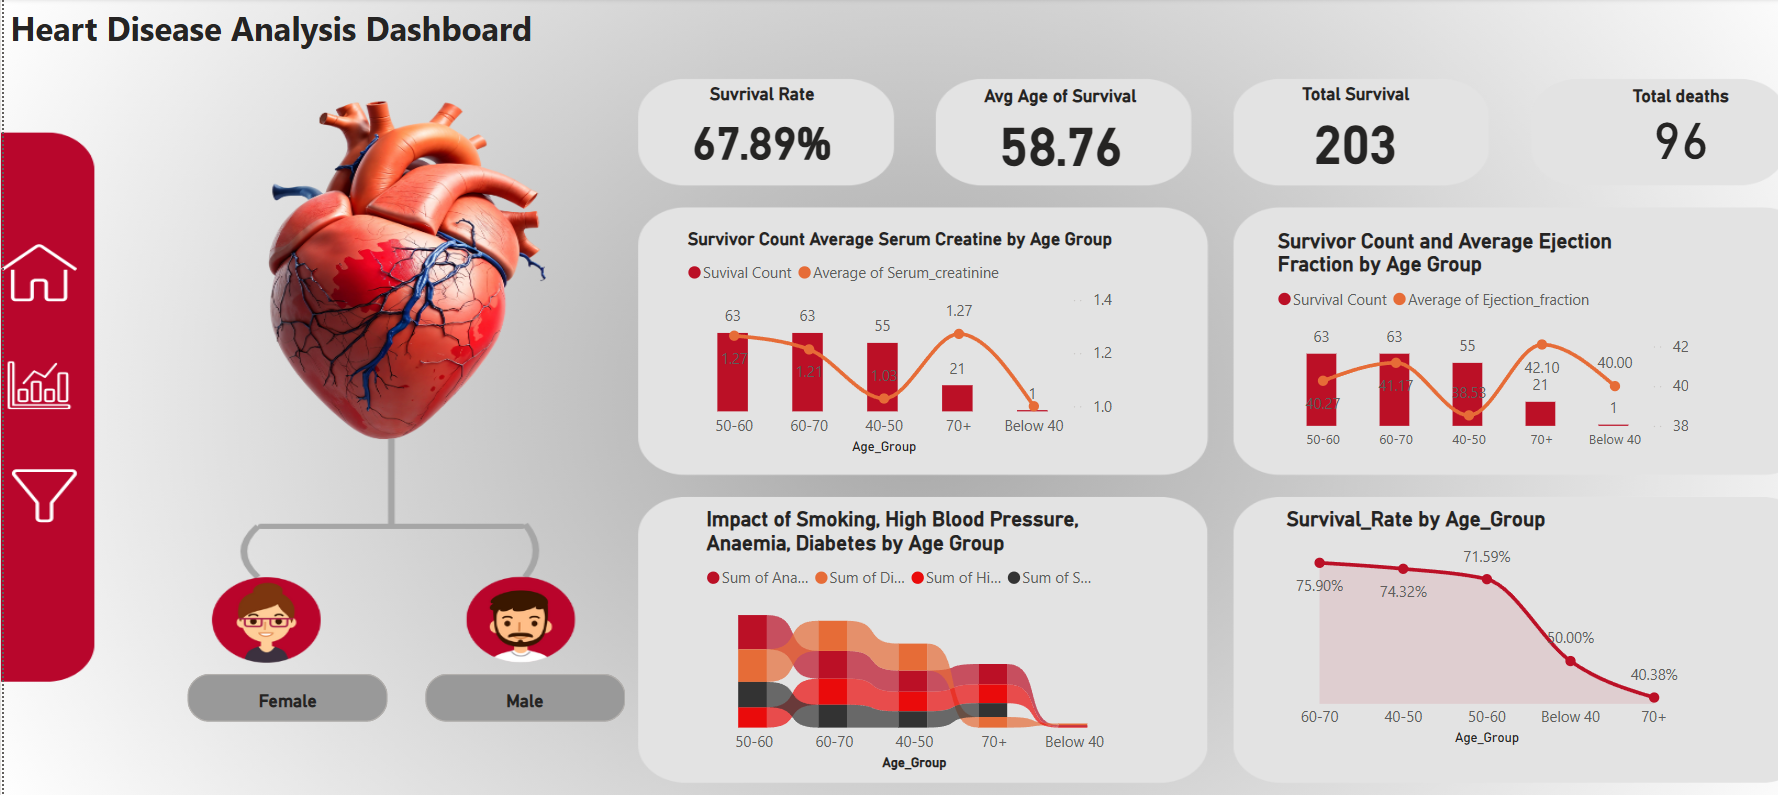

The dashboard page shown, as its layout file describes it:
{"tool":"powerbi","page":{"name":"Page 1","canvas":[1450,650],"ordinal":0},"visuals":[{"type":"textbox","box":[0,1,525,49],"z":0},{"type":"card","title":"Suvrival Rate","fields":{"Values":["heart_Disease_clinical_records_.Survival_Rate"]},"box":[550.5,69.2,133.3,79.4],"z":1000},{"type":"card","title":"Avg Age of Survival","fields":{"Values":["heart_Disease_clinical_records_.Average_Age_Survival"]},"box":[791.6,71.2,136.4,79.4],"z":2000},{"type":"card","title":"Total Survival","fields":{"Values":["heart_Disease_clinical_records_.Total_Survivor"]},"box":[1031.8,69.2,137.4,80.4],"z":3000},{"type":"card","title":"Total deaths","fields":{"Values":["heart_Disease_clinical_records_.Total_Death"]},"box":[1300.4,71.2,129.2,69.2],"z":4000},{"type":"lineClusteredColumnComboChart","title":"Survivor Count Average Serum Creatine by Age Group","fields":{"Category":["heart_Disease_clinical_records_.Age_Group"],"Y":["CountNonNull(heart_Disease_clinical_records_.DEATH_EVENT)"],"Y2":["Avg(heart_Disease_clinical_records_.Serum_creatinine)"]},"box":[551.5,187.2,356.1,189.3],"z":5000},{"type":"lineClusteredColumnComboChart","title":"Survivor Count and Average Ejection Fraction by Age Group","fields":{"Category":["heart_Disease_clinical_records_.Age_Group"],"Y2":["Avg(heart_Disease_clinical_records_.Ejection_fraction)"],"Y":["CountNonNull(heart_Disease_clinical_records_.DEATH_EVENT)"]},"box":[1031.8,187.2,343.9,189.3],"z":6000},{"type":"lineChart","fields":{"Category":["heart_Disease_clinical_records_.Age_Group"],"Y":["heart_Disease_clinical_records_.Survival_Rate"]},"box":[1038.9,414.1,336.8,199.4],"z":7000},{"type":"ribbonChart","title":"Impact of Smoking, High Blood Pressure, Anaemia, Diabetes by Age Group","fields":{"Category":["heart_Disease_clinical_records_.Age_Group"],"Y":["Sum(heart_Disease_clinical_records_.Anaemia)","Sum(heart_Disease_clinical_records_.Diabetes)","Sum(heart_Disease_clinical_records_.High_blood_pressure)","Sum(heart_Disease_clinical_records_.Smoking)"]},"box":[566.8,414.1,349,219.8],"z":7001},{"type":"advancedSlicerVisual","fields":{"Values":["heart_Disease_clinical_records_.Gender"]},"box":[144.5,545.4,366.3,49.9],"z":7002}]}

Visuals, with their boxes in screenshot pixels (x1, y1, x2, y2), scaled from the page's 1450x650 canvas onto the 1778x795 screenshot:
textbox: (left=0, top=1, right=644, bottom=61)
"Suvrival Rate" card: (left=675, top=85, right=838, bottom=182)
"Avg Age of Survival" card: (left=971, top=87, right=1138, bottom=184)
"Total Survival" card: (left=1265, top=85, right=1434, bottom=183)
"Total deaths" card: (left=1595, top=87, right=1753, bottom=172)
"Survivor Count Average Serum Creatine by Age Group" lineClusteredColumnComboChart: (left=676, top=229, right=1113, bottom=460)
"Survivor Count and Average Ejection Fraction by Age Group" lineClusteredColumnComboChart: (left=1265, top=229, right=1687, bottom=460)
lineChart - heart_Disease_clinical_records_.Age_Group x heart_Disease_clinical_records_.Survival_Rate: (left=1274, top=506, right=1687, bottom=750)
"Impact of Smoking, High Blood Pressure, Anaemia, Diabetes by Age Group" ribbonChart: (left=695, top=506, right=1123, bottom=775)
advancedSlicerVisual - heart_Disease_clinical_records_.Gender: (left=177, top=667, right=626, bottom=728)
